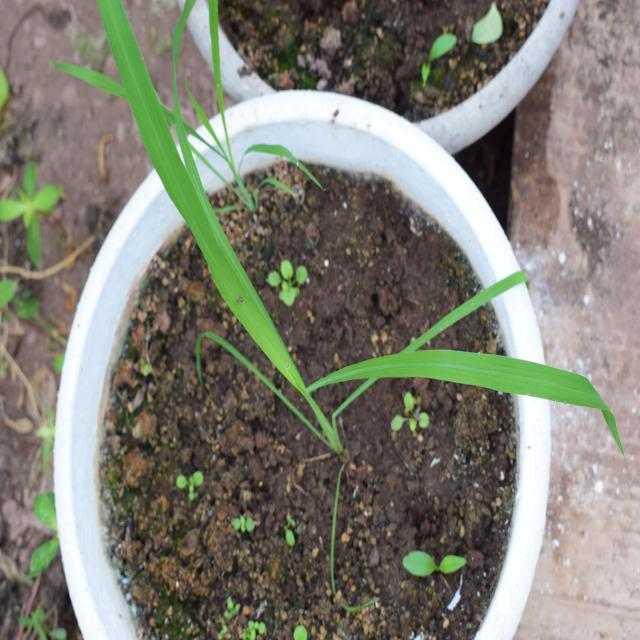barnyard_grass: (103, 12, 615, 452)
